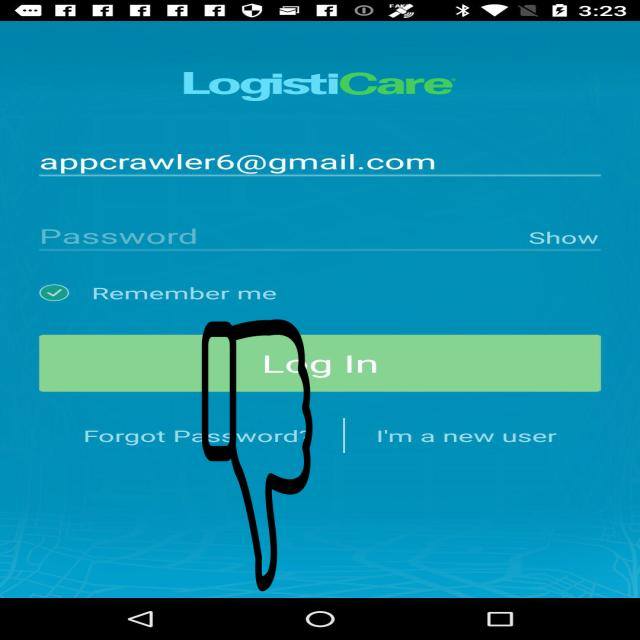obstruction: (200, 319, 314, 592)
